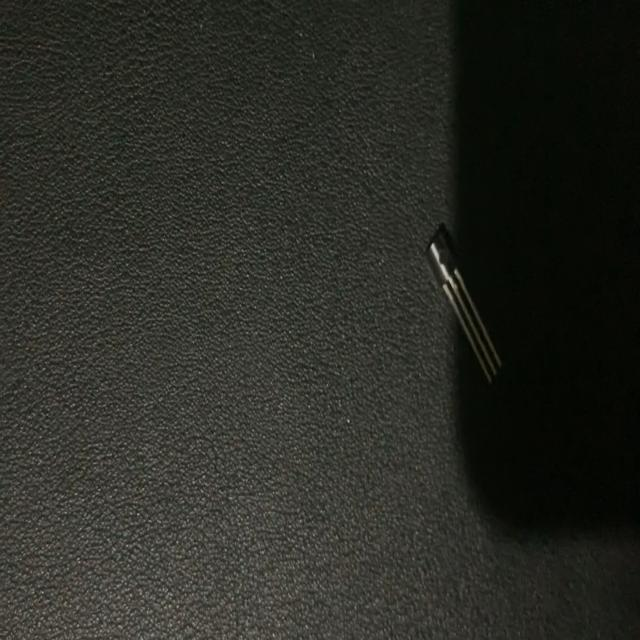BJT: (419, 217, 508, 398)
